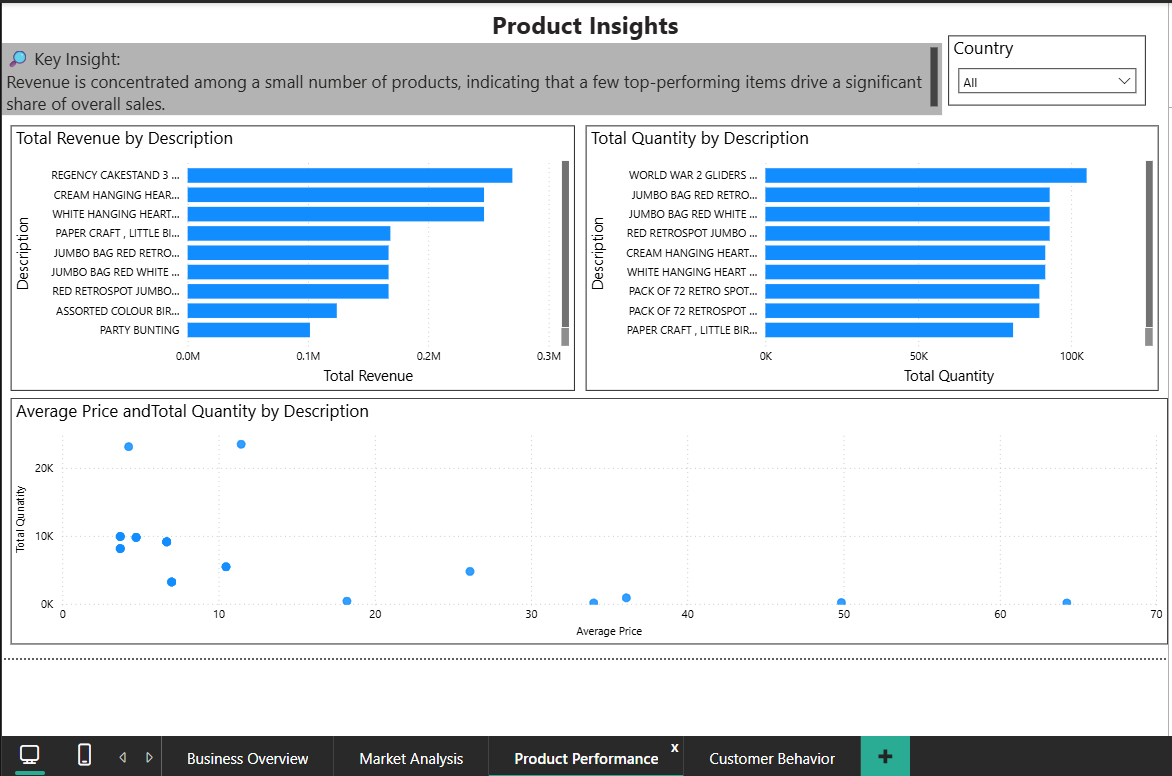

What the dashboard file says about the page in this screenshot:
{"tool":"powerbi","page":{"name":"Product Performance","canvas":[1280,720],"ordinal":2},"visuals":[{"type":"clusteredBarChart","title":"Total Revenue by Description","fields":{"Category":["retail_intelligence product_performance_vw.Description"],"Y":["Sum(retail_intelligence product_performance_vw.total_revenue)"]},"box":[9.6,134.5,618.9,290.9],"z":0},{"type":"clusteredBarChart","title":"Total Quantity by Description","fields":{"Category":["retail_intelligence product_performance_vw.Description"],"Y":["Sum(retail_intelligence product_performance_vw.total_quantity)"]},"box":[640.8,134.5,628.5,290.9],"z":1000},{"type":"scatterChart","title":"Average Price andTotal Quantity by Description","fields":{"Category":["retail_intelligence product_performance_vw.Description"],"X":["Avg(retail_intelligence product_performance_vw.avg_price)"],"Y":["Sum(retail_intelligence product_performance_vw.total_quantity)"]},"box":[9.6,433.6,1270.7,270.3],"z":2000},{"type":"textbox","box":[0,0,1280.3,52.1],"z":3000},{"type":"slicer","title":"Country","fields":{"Values":["retail_intelligence product_performance_vw.country"]},"box":[1038.8,35.7,216.8,76.8],"z":5000},{"type":"textbox","box":[0,43.9,1031.9,79.6],"z":5001}]}

Visuals, with their boxes on the page's 1280x720 design canvas (x1, y1, x2, y2). These are canvas units, not pixel positions in the 1172x776 screenshot, which may show the page scaled, cropped or inside an application window:
"Total Revenue by Description" clusteredBarChart: [left=10, top=134, right=628, bottom=425]
"Total Quantity by Description" clusteredBarChart: [left=641, top=134, right=1269, bottom=425]
"Average Price andTotal Quantity by Description" scatterChart: [left=10, top=434, right=1280, bottom=704]
textbox: [left=0, top=0, right=1280, bottom=52]
"Country" slicer: [left=1039, top=36, right=1256, bottom=112]
textbox: [left=0, top=44, right=1032, bottom=124]
